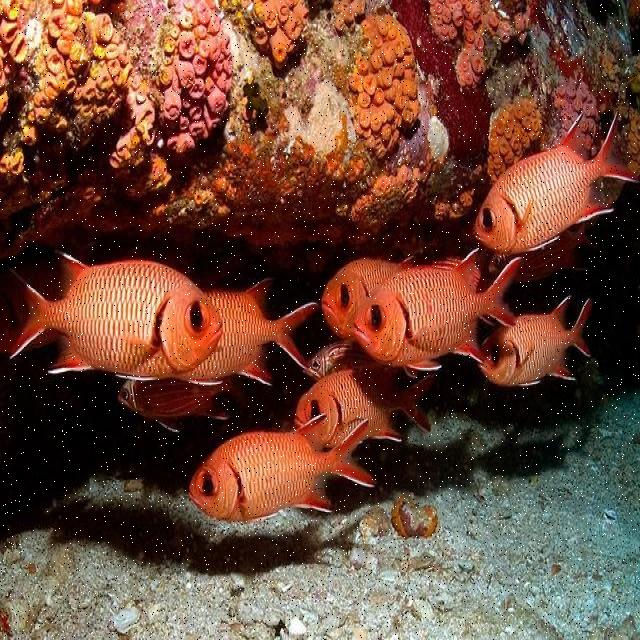fish: (7, 250, 222, 379), (473, 110, 637, 257), (356, 249, 520, 378), (189, 416, 379, 522), (177, 276, 317, 389), (294, 358, 436, 453), (474, 294, 593, 387), (322, 254, 416, 341), (116, 376, 243, 432), (488, 219, 591, 280), (306, 341, 370, 380)
reefs: (8, 4, 232, 196), (352, 16, 421, 152), (426, 10, 534, 88), (489, 96, 537, 179), (551, 71, 600, 150), (247, 11, 309, 57)
